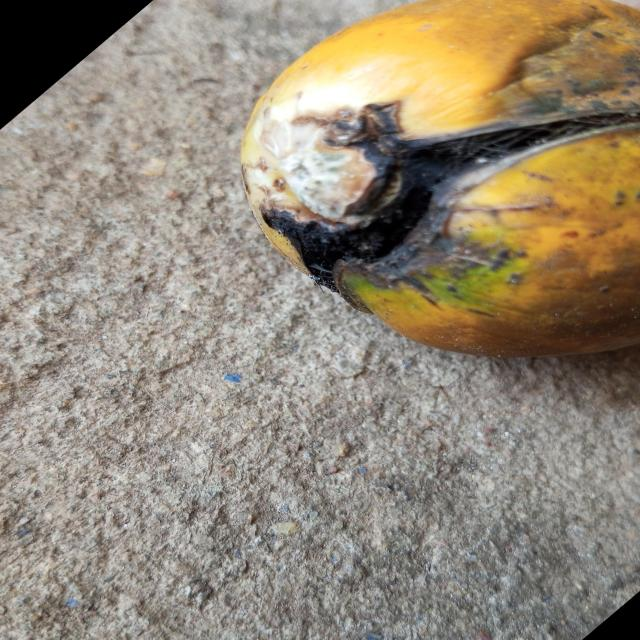damaged: (240, 0, 640, 360)
